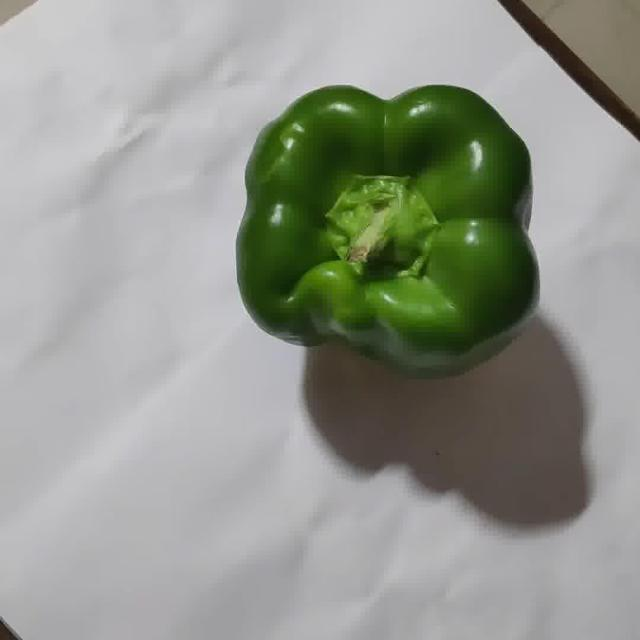Bell Pepper: (237, 86, 537, 374)
